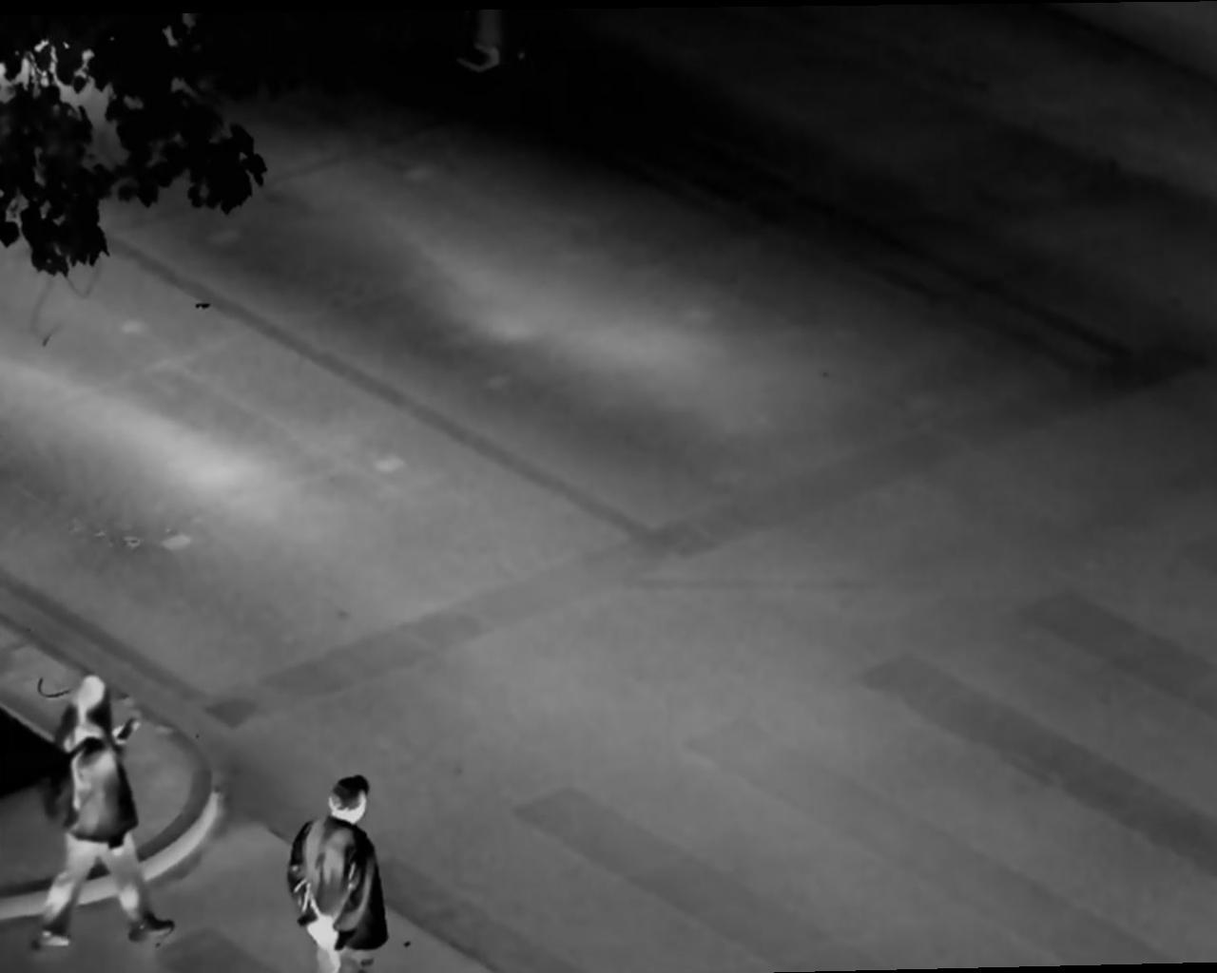person: (28, 661, 188, 965), (285, 767, 405, 973)
